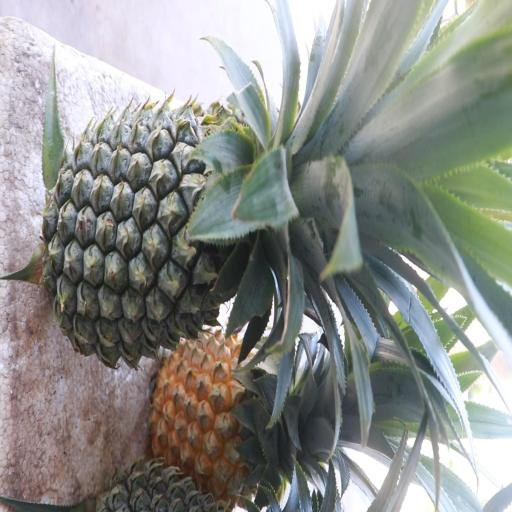Pineapple - v8 v1: (155, 335, 312, 503)
